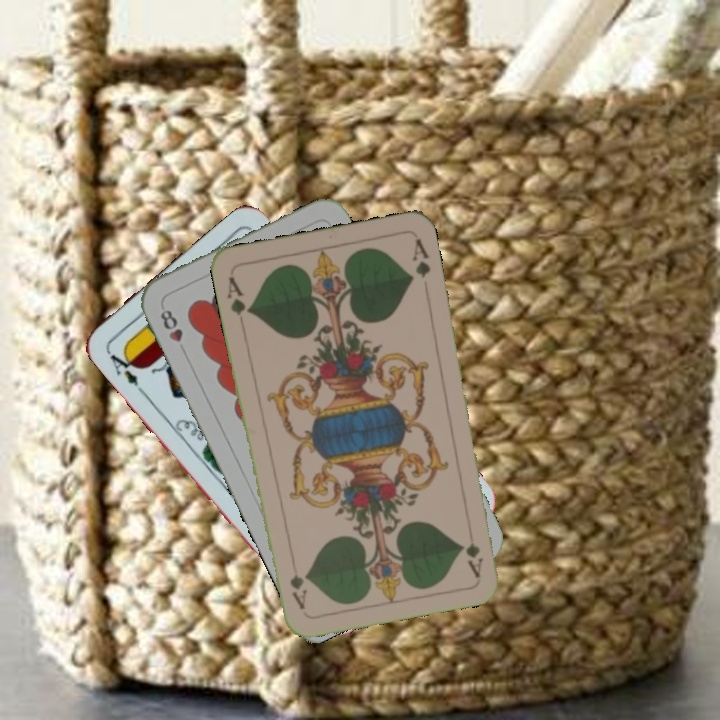EA: (103, 345, 142, 389)
GA: (223, 273, 254, 329), (461, 520, 486, 579)
H8: (156, 305, 190, 357)
